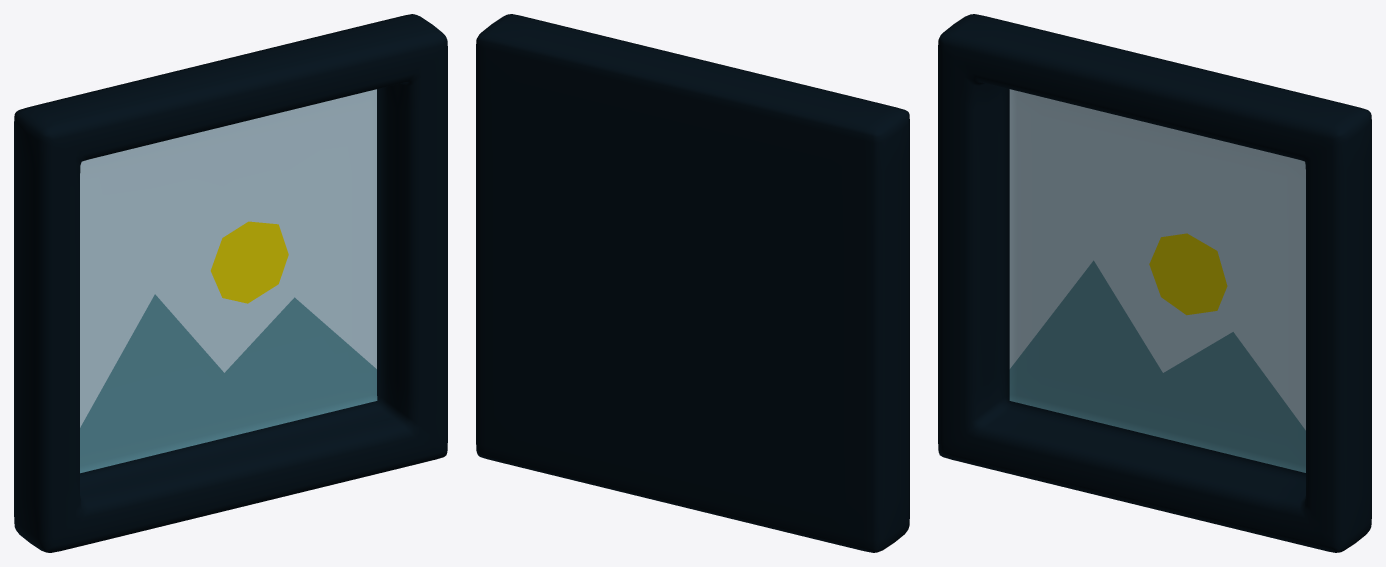
File: Figura 1.fbx
3 views of the same model, side by side, from view 1: azimuth 30°, elevation 25°; view 2: azimuth 150°, elevation 25°; view 3: azimuth 330°, elevation 25° (orthographic).
Parts seen in each view (by area): view 1: Cube.013; view 2: Cube.013; view 3: Cube.013.
Part boxes in pixels (bbox=[...]): Cube.013: bbox=[14, 14, 447, 552]; Cube.013: bbox=[476, 14, 909, 552]; Cube.013: bbox=[938, 14, 1371, 552].
Size of the model in its own units: 94.23 by 94.23 by 13.5.
